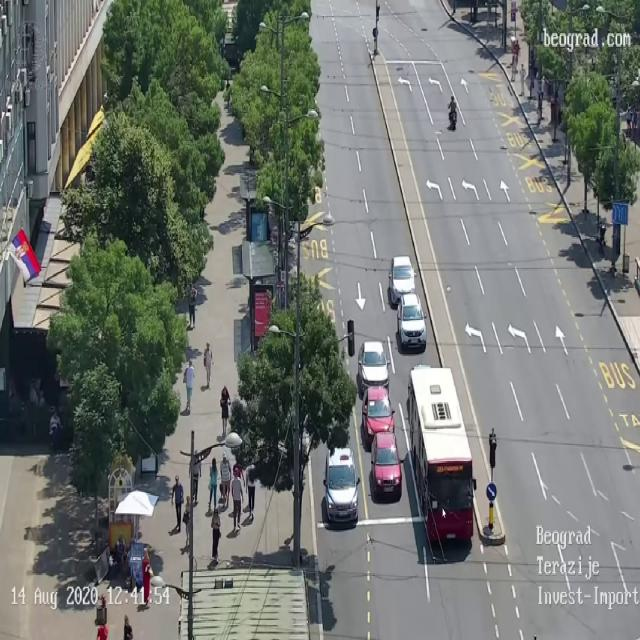bus: (405, 362, 475, 544)
car: (324, 446, 359, 524), (354, 340, 394, 394), (373, 427, 403, 497), (360, 386, 396, 438), (392, 290, 424, 348), (386, 247, 420, 298)
